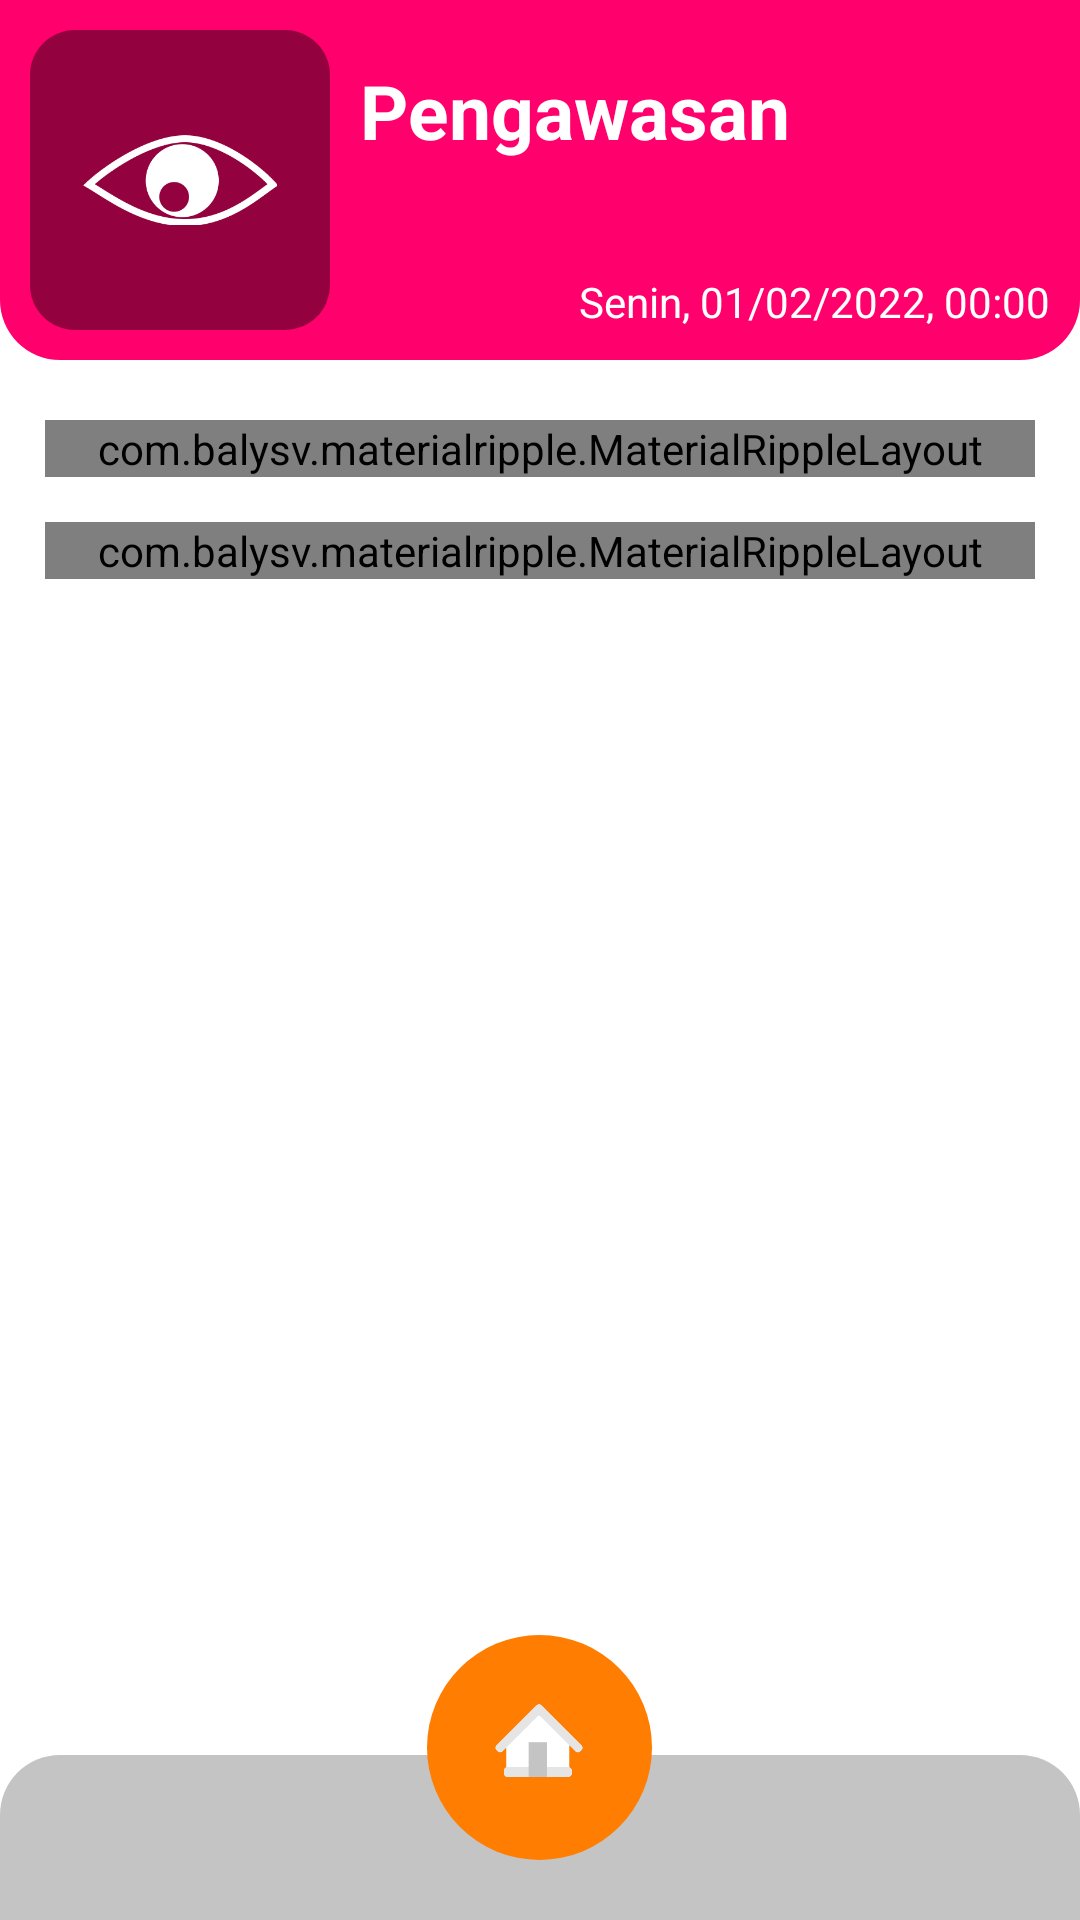

Point at icon controls on the screen. Image size 1080px×1920px, points as point (x, y).
home: point (539, 1740)
